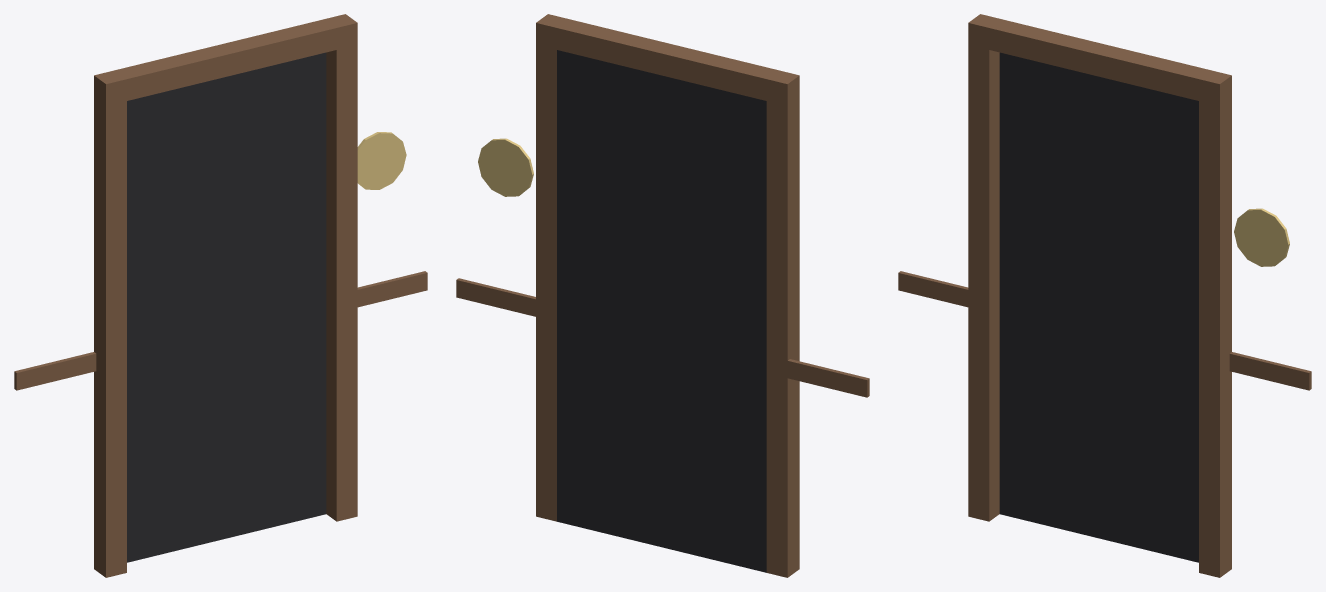
Rendered from HJ_PuertaHabitacion.fbx.
3 renders of one model, left to right at view 1: azimuth 30°, elevation 25°; view 2: azimuth 150°, elevation 25°; view 3: azimuth 330°, elevation 25°, orthographic.
Parts seen in each view (by area): view 1: HJ_PuertaHabitacion; view 2: HJ_PuertaHabitacion; view 3: HJ_PuertaHabitacion.
Boxes of the visible parts, x1=… form: HJ_PuertaHabitacion: x1=14, y1=14, x2=427, y2=577; HJ_PuertaHabitacion: x1=456, y1=14, x2=869, y2=577; HJ_PuertaHabitacion: x1=898, y1=14, x2=1311, y2=577.
Size of the model in its own units: 1.96 by 2.25 by 0.1.
